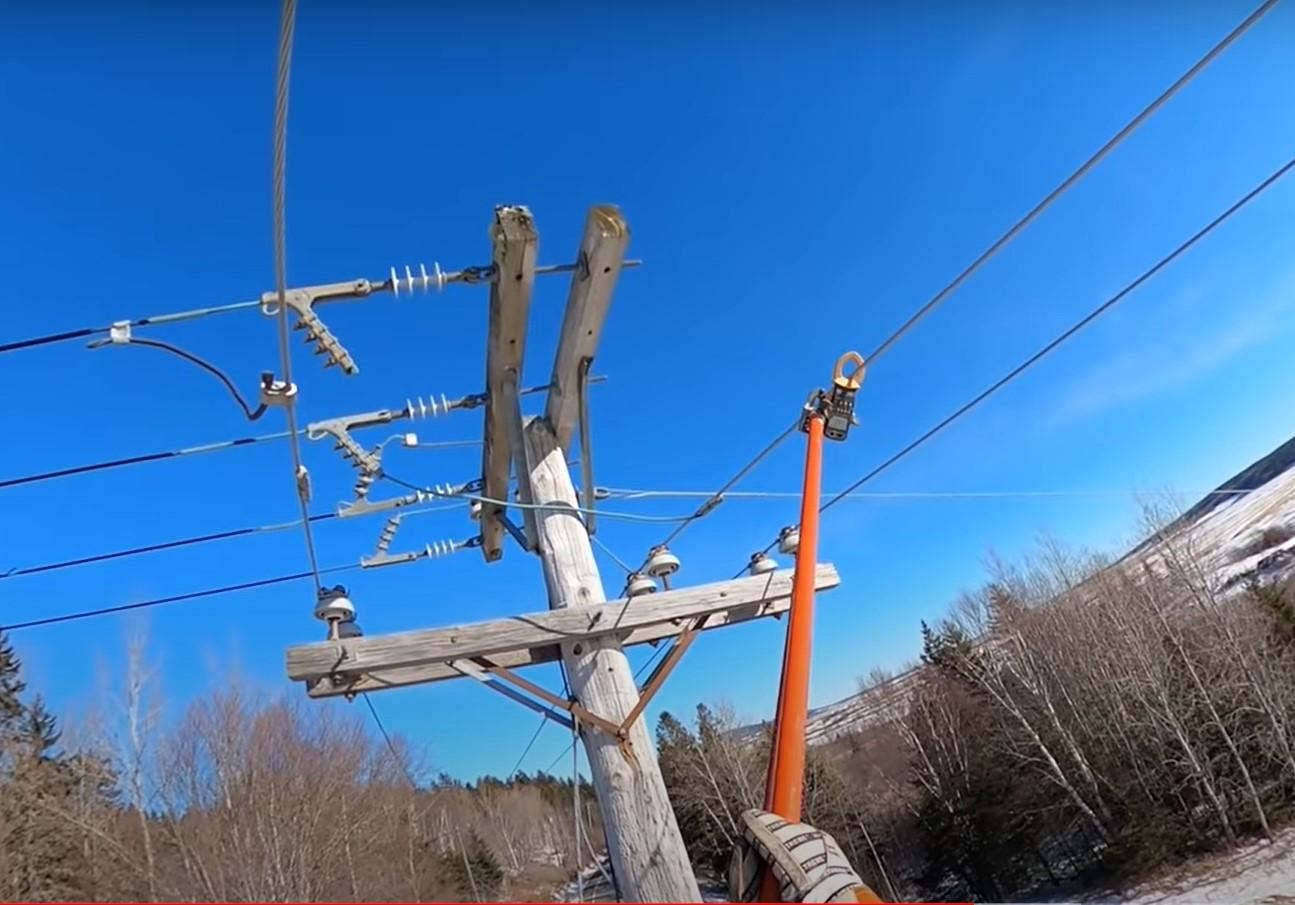Vara_Manobra: (749, 408, 827, 905)
